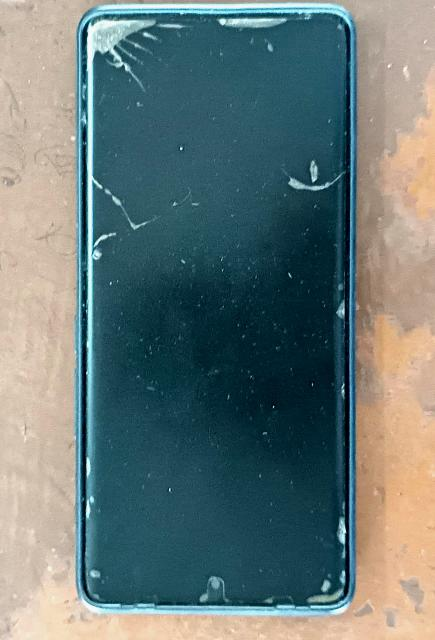Crack: (84, 15, 194, 91)
